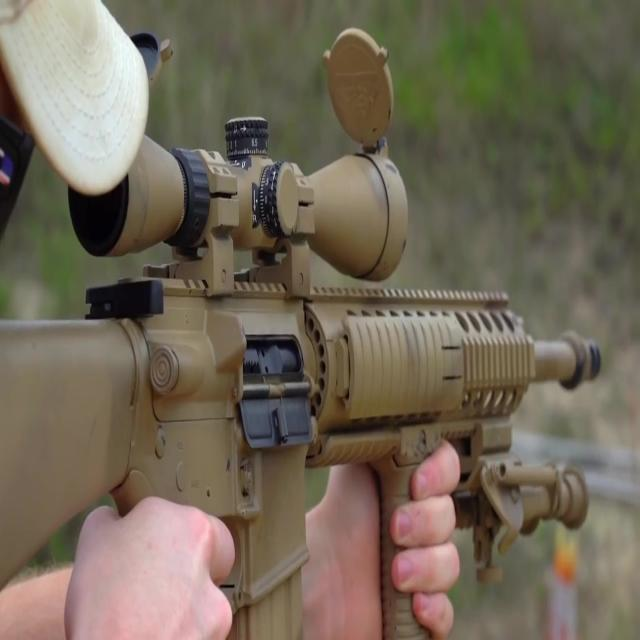Weapon: (0, 0, 612, 611)
